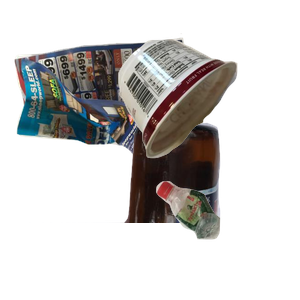glass: (29, 120, 242, 300)
paper: (12, 31, 196, 204)
plastic: (153, 178, 300, 300)
trash: (116, 36, 300, 187)
